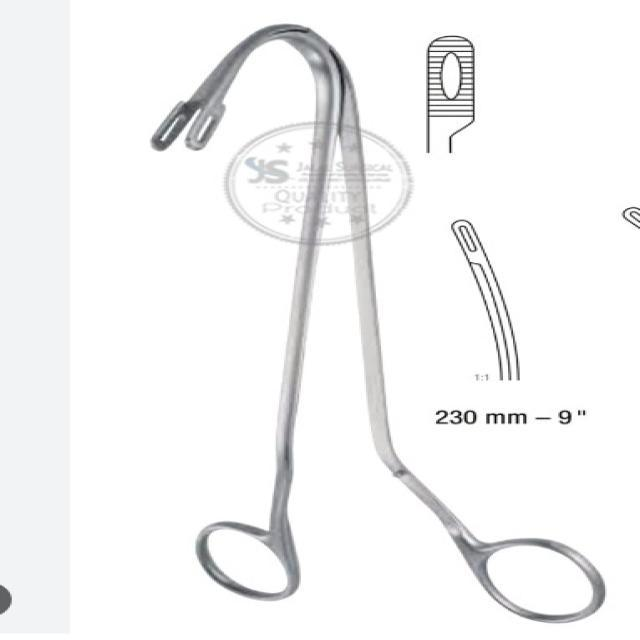Randall: (148, 12, 606, 620)
